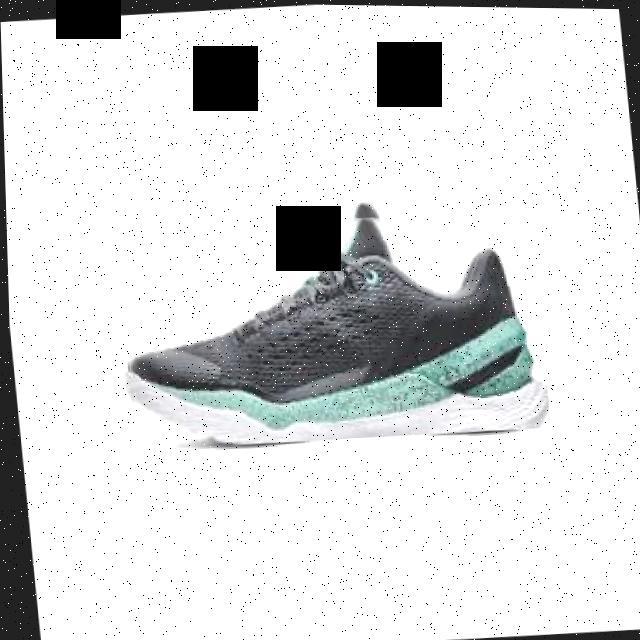shoe: (110, 187, 549, 455)
